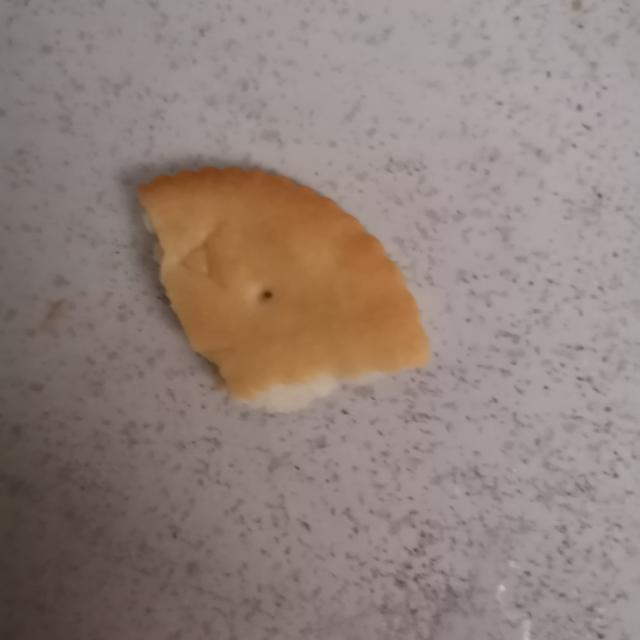Broken: (135, 163, 431, 413)
